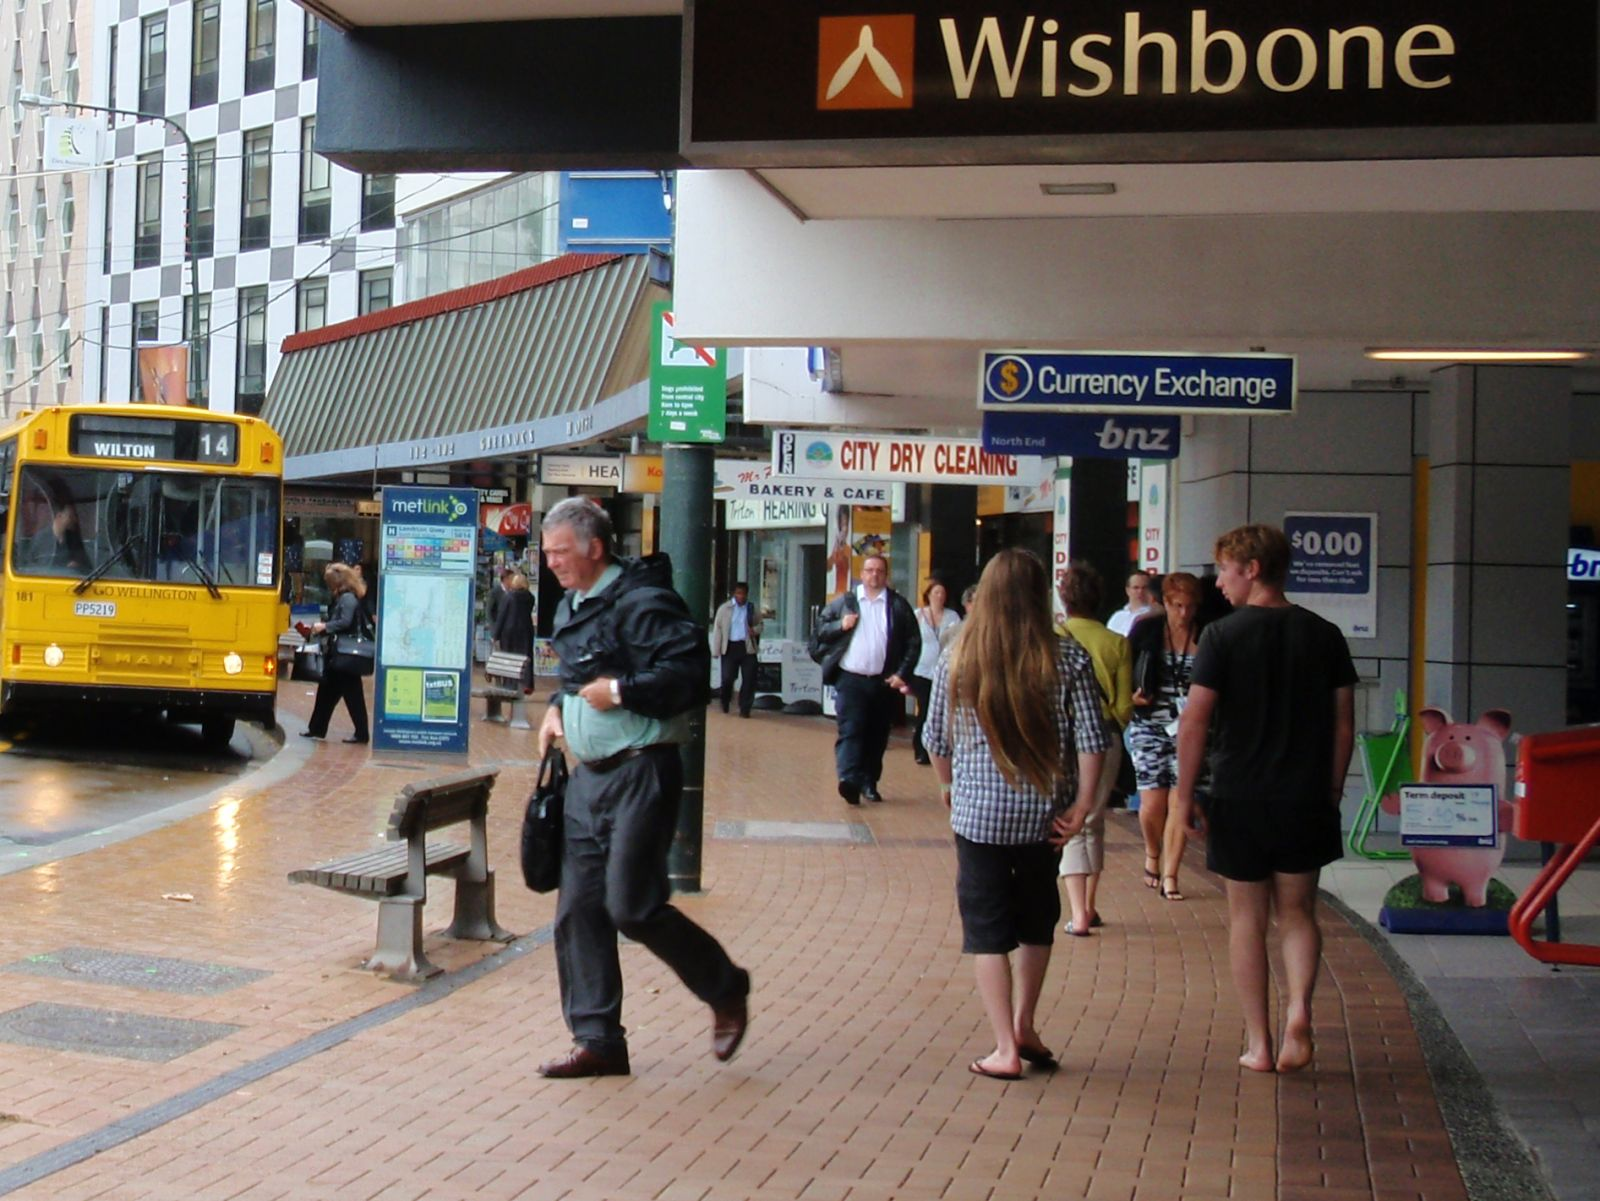Humano: (519, 492, 696, 1061), (1198, 500, 1350, 1080), (946, 530, 1091, 1092), (815, 549, 912, 809), (1058, 561, 1120, 930), (1155, 571, 1207, 893), (300, 556, 386, 740), (703, 569, 762, 721), (908, 575, 962, 693), (1110, 568, 1157, 625)
